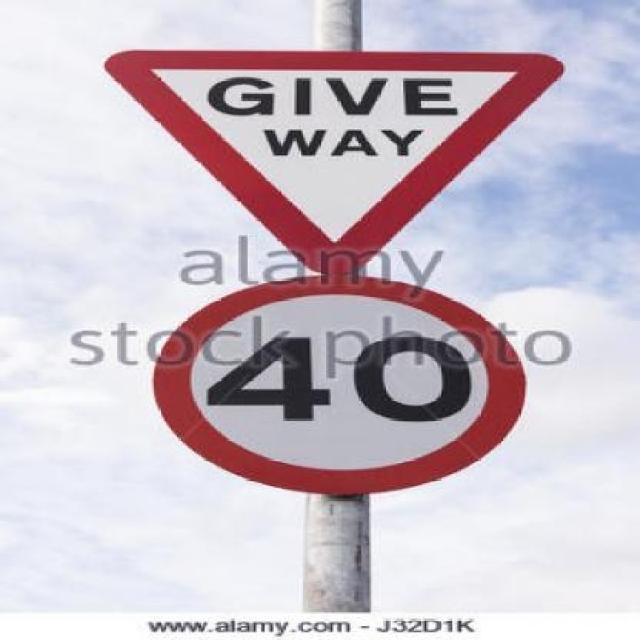forb_speed_over_40: (163, 277, 523, 491)
